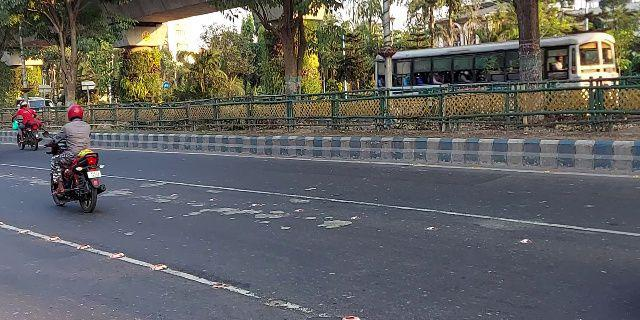Motorbike: (39, 103, 110, 219), (10, 94, 43, 152)
